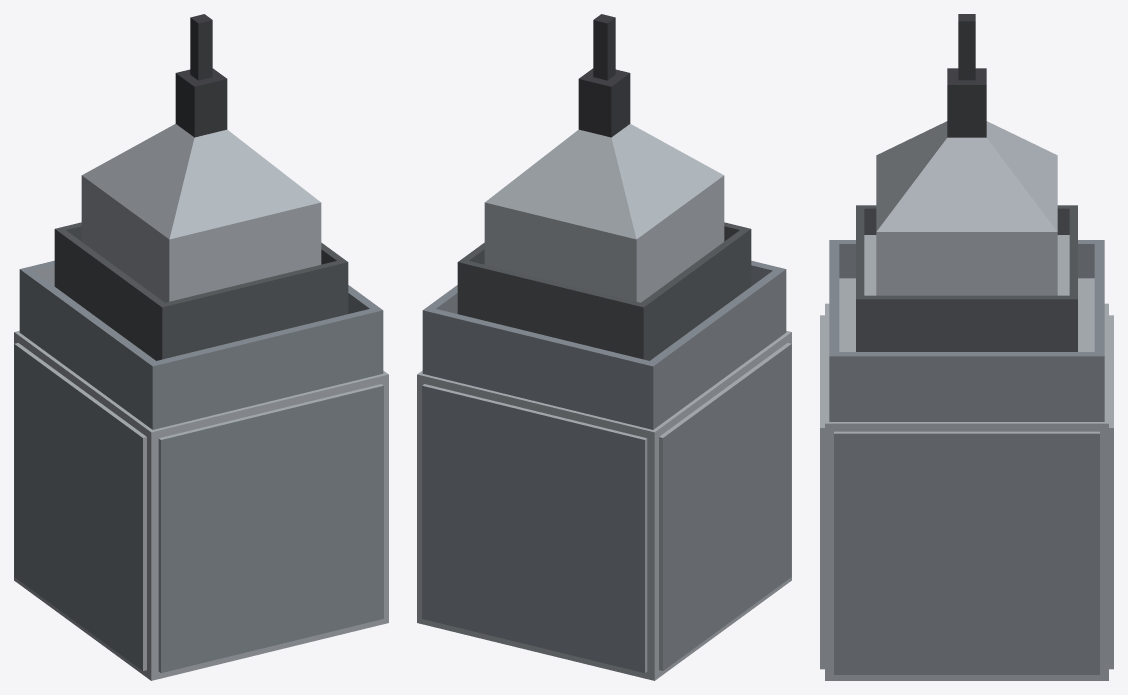
File: talo15.fbx
3 renders of one model, left to right at view 1: azimuth 30°, elevation 25°; view 2: azimuth 150°, elevation 25°; view 3: azimuth 270°, elevation 25°, orthographic. The views are drawn at different scales.
Visible parts, largest first — view 1: talo15; view 2: talo15; view 3: talo15.
Boxes of the visible parts, x1,y1,x2,y2 form: talo15: [14, 14, 388, 680]; talo15: [417, 14, 791, 680]; talo15: [820, 14, 1113, 680].
Size of the model in its own units: 207 by 469 by 207.
